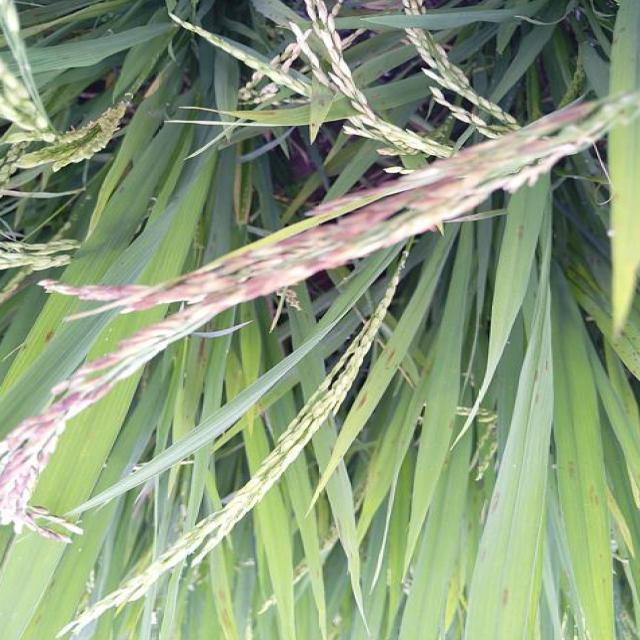Panicle Blight: (0, 98, 636, 540)
